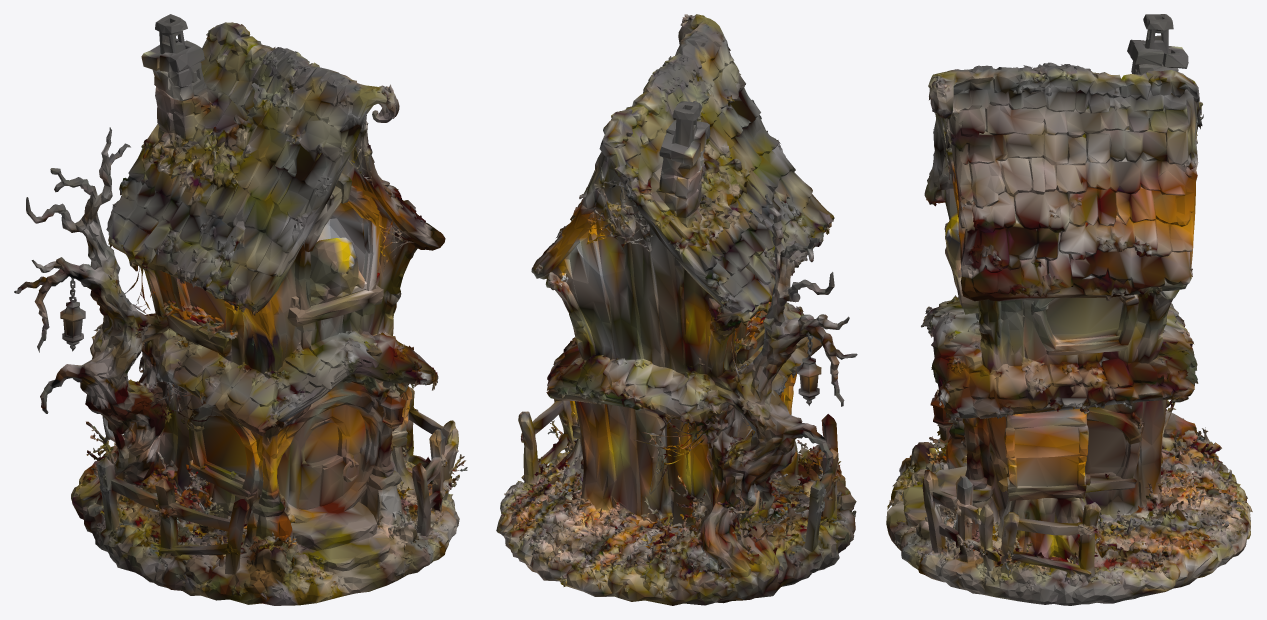
Rendered from halloween-house-preview.glb.
3 views of the same model, side by side, from view 1: azimuth 30°, elevation 25°; view 2: azimuth 150°, elevation 25°; view 3: azimuth 270°, elevation 25° (orthographic). The views are drawn at different scales.
Visible parts, largest first — view 1: geometry_0; view 2: geometry_0; view 3: geometry_0.
Part boxes in pixels (bbox=[...]): geometry_0: bbox=[14, 14, 467, 605]; geometry_0: bbox=[496, 14, 857, 605]; geometry_0: bbox=[886, 14, 1252, 605].
Size of the model in its own units: 41.23 by 49.99 by 34.15.
